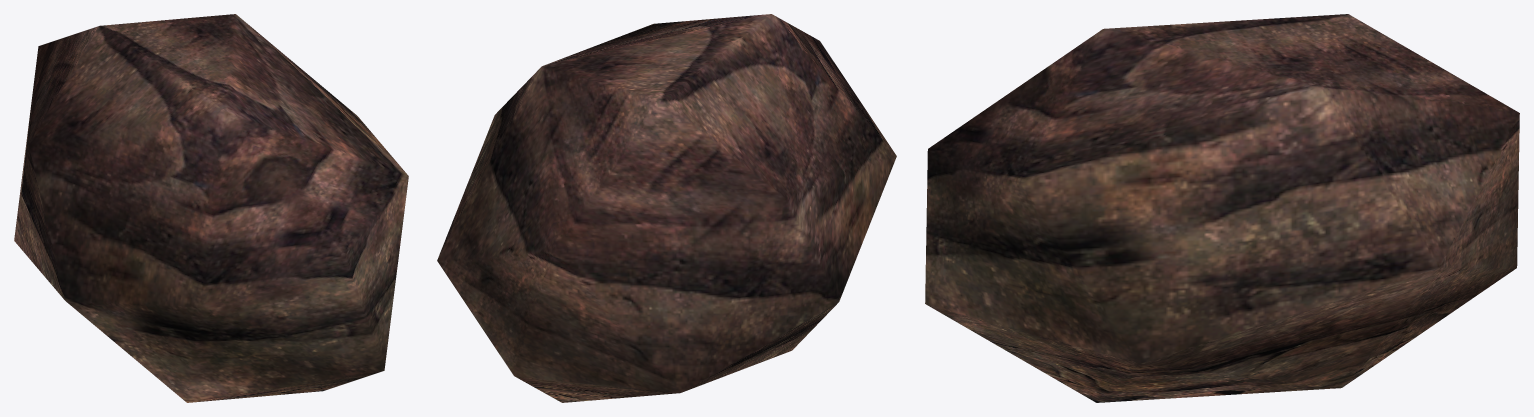
The model's file is stone_17.obj.
3 views of the same model, side by side, from view 1: azimuth 30°, elevation 25°; view 2: azimuth 150°, elevation 25°; view 3: azimuth 270°, elevation 25° (orthographic). The views are drawn at different scales.
Parts seen in each view (by area): view 1: (null); view 2: (null); view 3: (null).
Part boxes in pixels (left/top/right/bottom): (null): left=14, top=14, right=408, bottom=402; (null): left=437, top=14, right=896, bottom=402; (null): left=925, top=14, right=1519, bottom=402.
Size of the model in its own units: 1.15 by 1.11 by 1.8.
